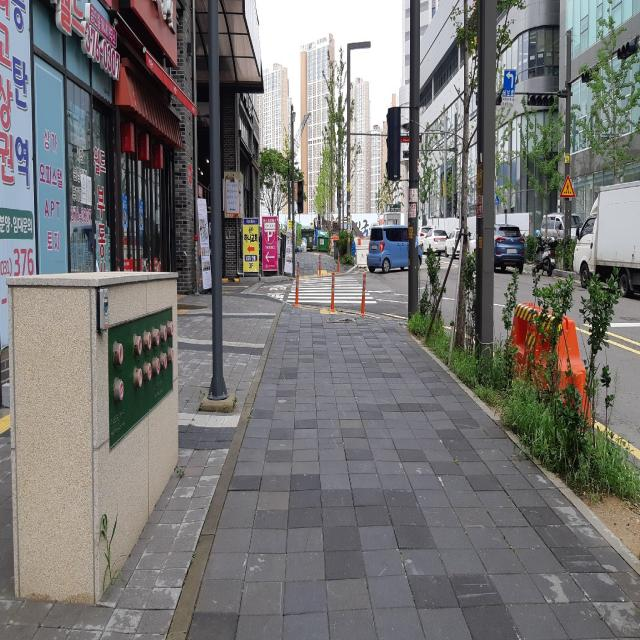횡단보도: (286, 276, 378, 304)
